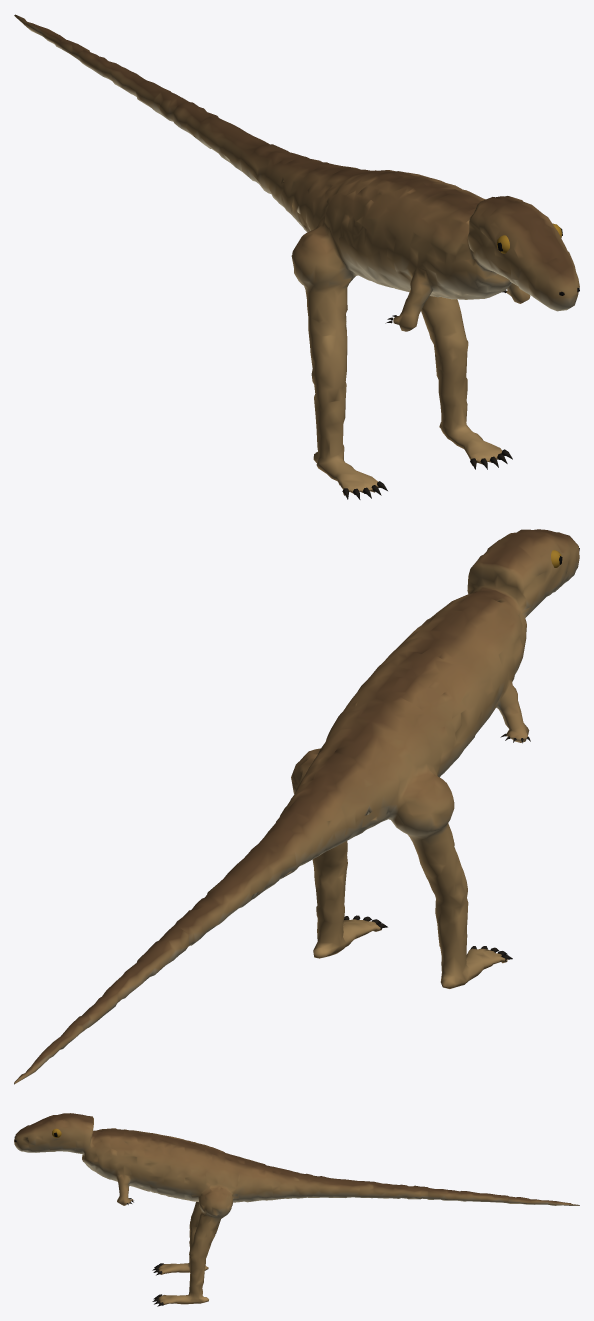
The model's file is Eudibamus.fbx.
The picture shows the model from 3 angles, top to bottom: view 1: azimuth 30°, elevation 25°; view 2: azimuth 150°, elevation 25°; view 3: azimuth 270°, elevation 25°; orthographic projection. The views are drawn at different scales.
Parts seen in each view (by area): view 1: Eudibamus; view 2: Eudibamus; view 3: Eudibamus.
Boxes of the visible parts, box(x1,y1,x2,y2) form: Eudibamus: box(14, 14, 579, 499); Eudibamus: box(14, 529, 579, 1084); Eudibamus: box(14, 1113, 579, 1306).
Size of the model in its own units: 0.261 by 0.5122 by 1.52.
